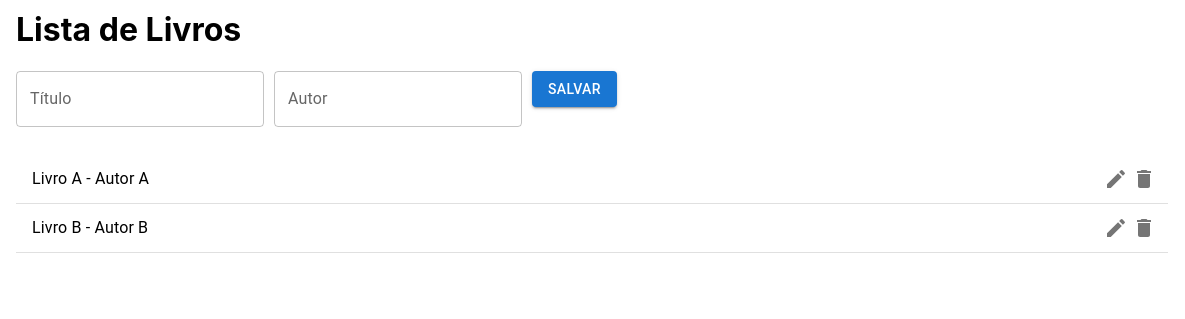
Test: adds a new book
Note: Adiciona um novo livro
In the field labelled "Título": (140, 99) [16,71,264,127], type "Livro C"
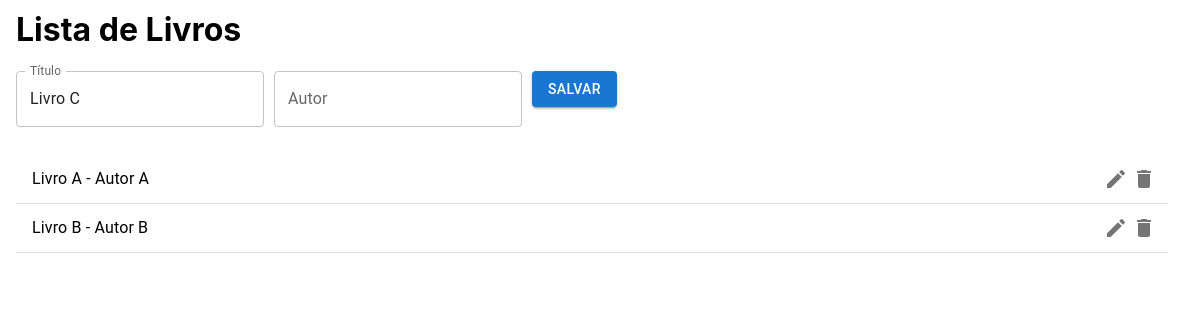
In the field labelled "Autor": (398, 99) [274,71,522,127], type "Autor C"
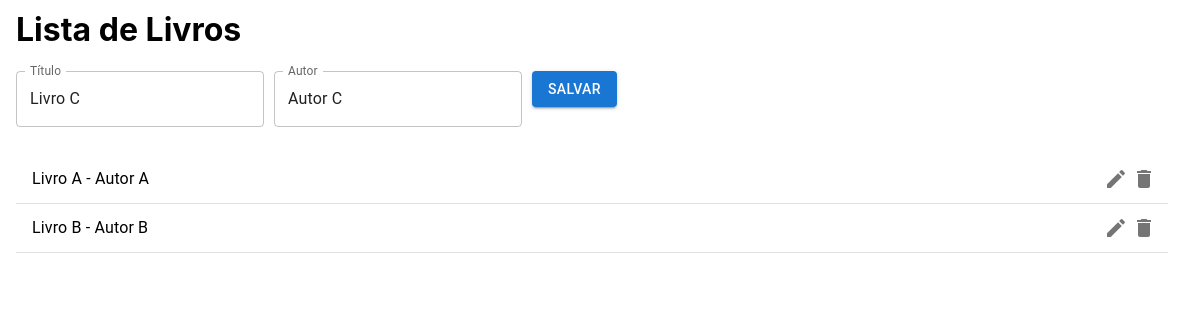
Click the button "Salvar": click(574, 89) [532,71,617,107]
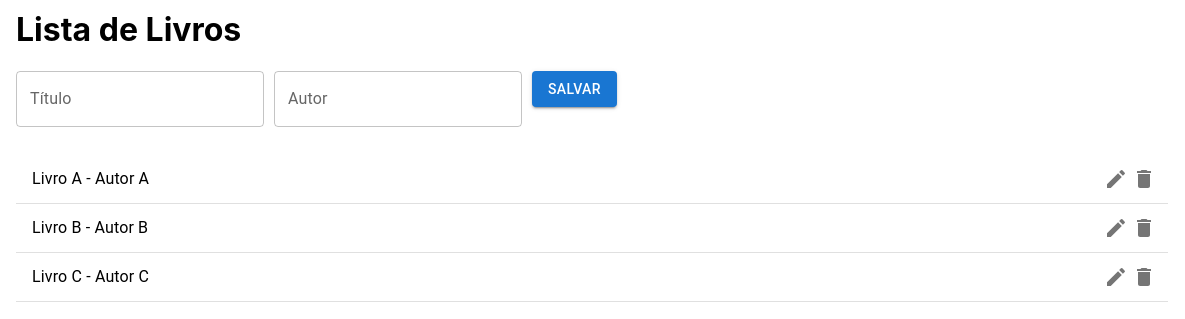
Expected: the text "Livro C - Autor C" is shown, [32,267,149,286]
